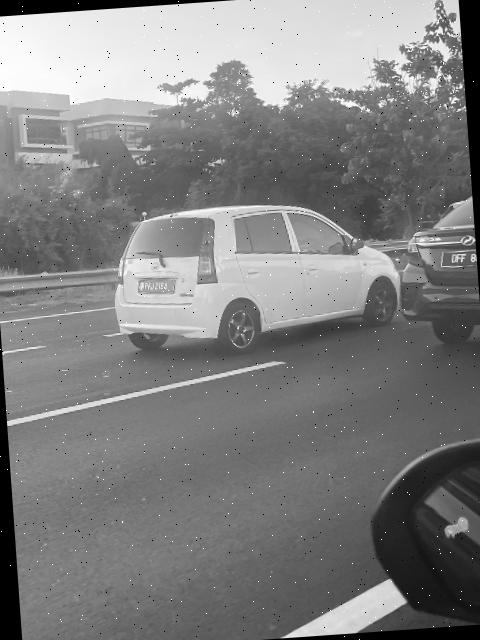License_Plate: (130, 275, 179, 301)
car: (100, 193, 399, 353)
